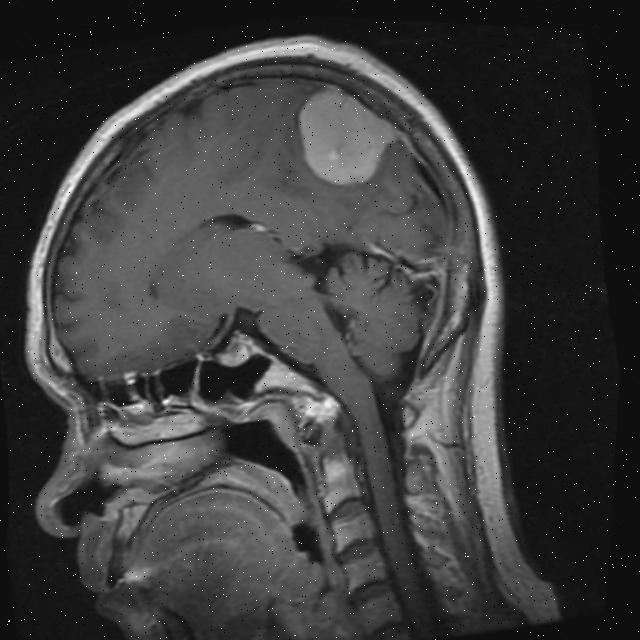Meningioma: (285, 68, 414, 200)
Pituitary: (210, 326, 261, 370)
